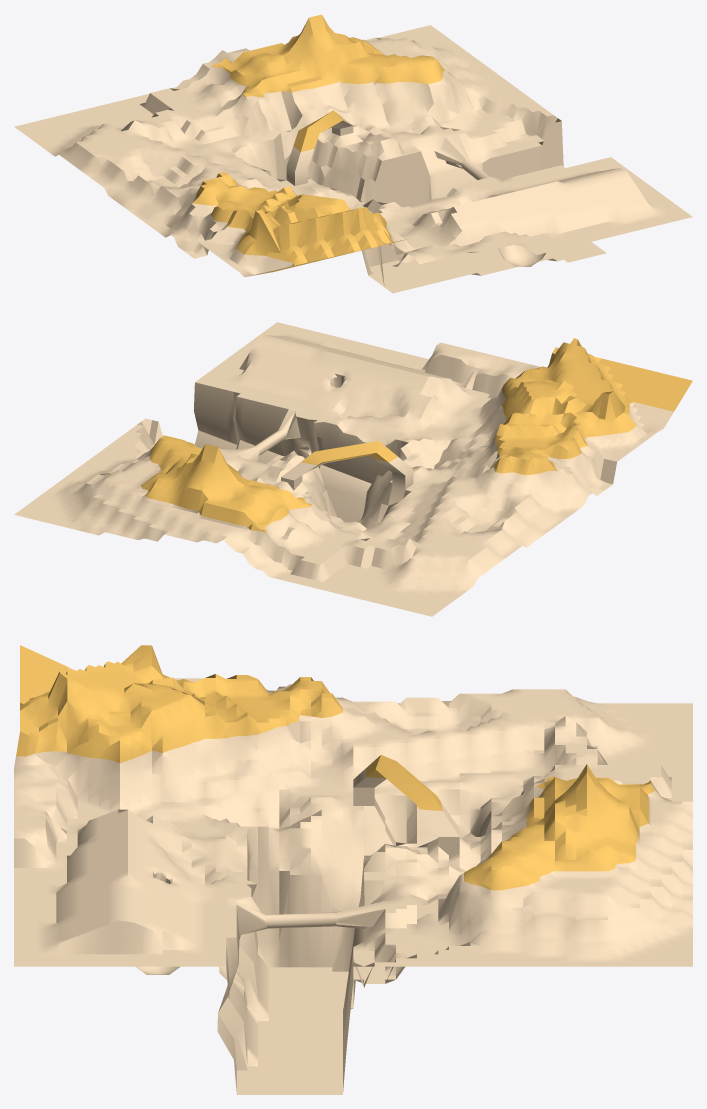
File: underwater.gltf
3 views of the same model, one above another, from view 1: azimuth 30°, elevation 25°; view 2: azimuth 150°, elevation 25°; view 3: azimuth 270°, elevation 25° (orthographic). The views are drawn at different scales.
Parts seen in each view (by area): view 1: Layer 1, Layer 2; view 2: Layer 1, Layer 2; view 3: Layer 1, Layer 2.
Part boxes in pixels (x1,y1,x2,y2): Layer 1: (14, 25, 692, 293); Layer 2: (193, 14, 444, 274); Layer 1: (14, 322, 673, 616); Layer 2: (141, 338, 692, 532); Layer 1: (14, 667, 692, 1094); Layer 2: (16, 645, 654, 890).
Size of the model in its own units: 6.68 by 2.7 by 7.28.
